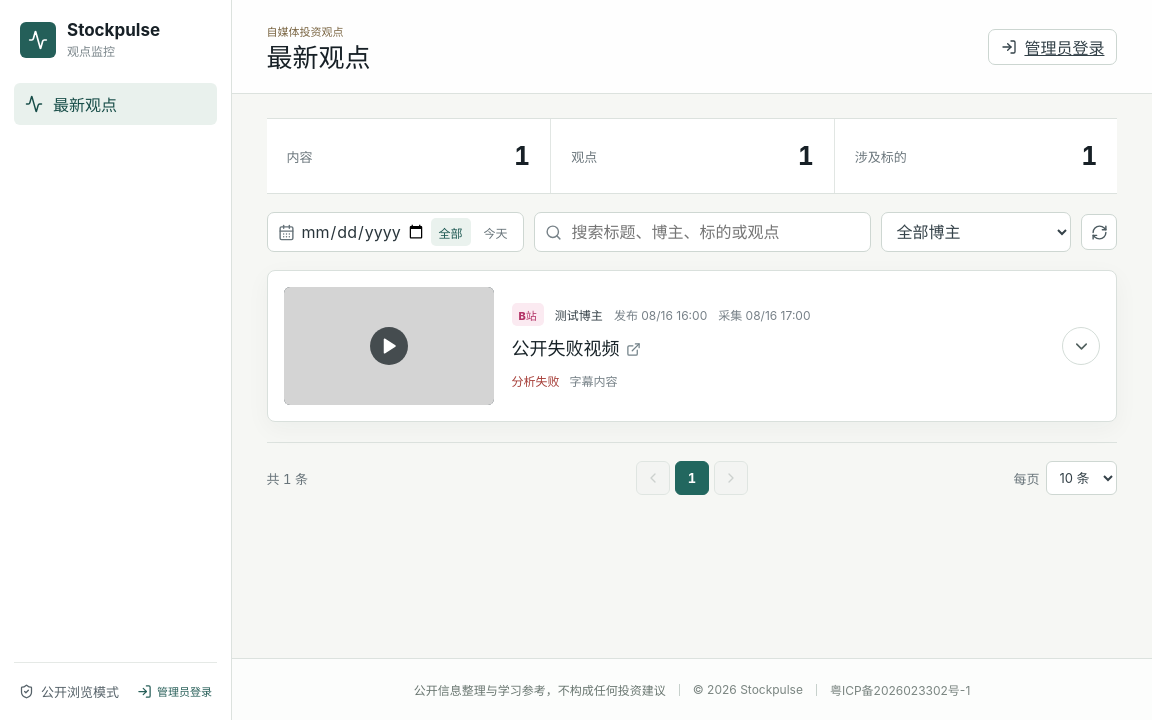
Test: application routes › manual analysis retry is not exposed to anonymous readers
The image size is (1152, 720).
Click the button named "展开观点：公开失败视频".
click(1082, 346)  # box [1062,327,1100,365]
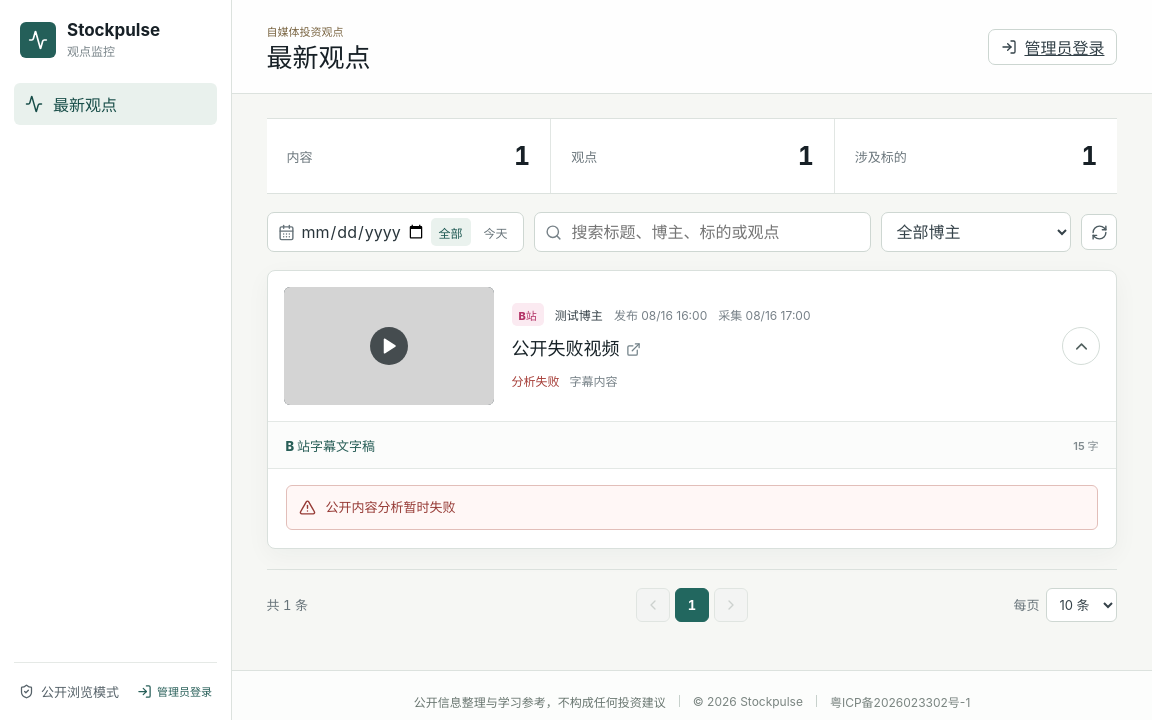
Check: the text "公开内容分析暂时失败" is shown, box [326,498,456,517]
